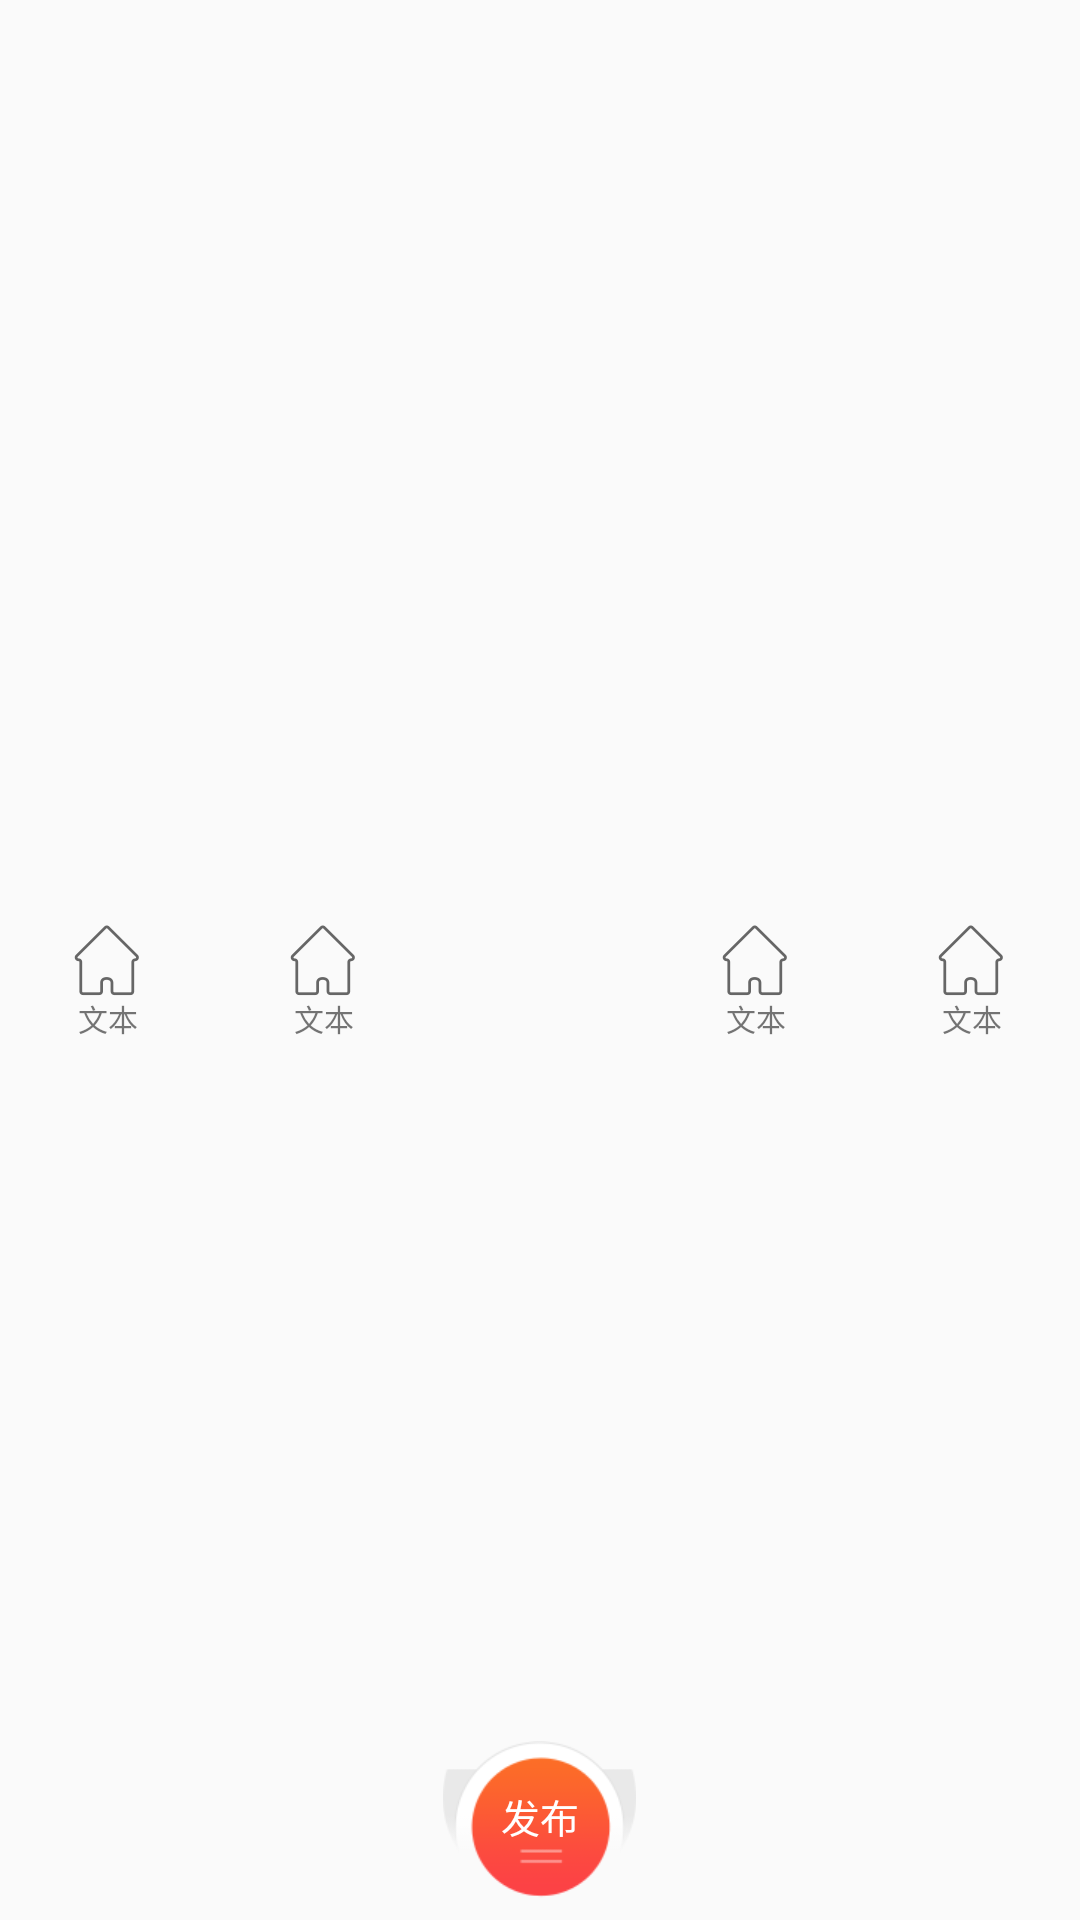

Named icons in this screenshot (1080 x 1920) and their centers, (x=x, y=y):
ccoo main: (x=106, y=960), (x=322, y=960), (x=754, y=960), (x=970, y=960)
